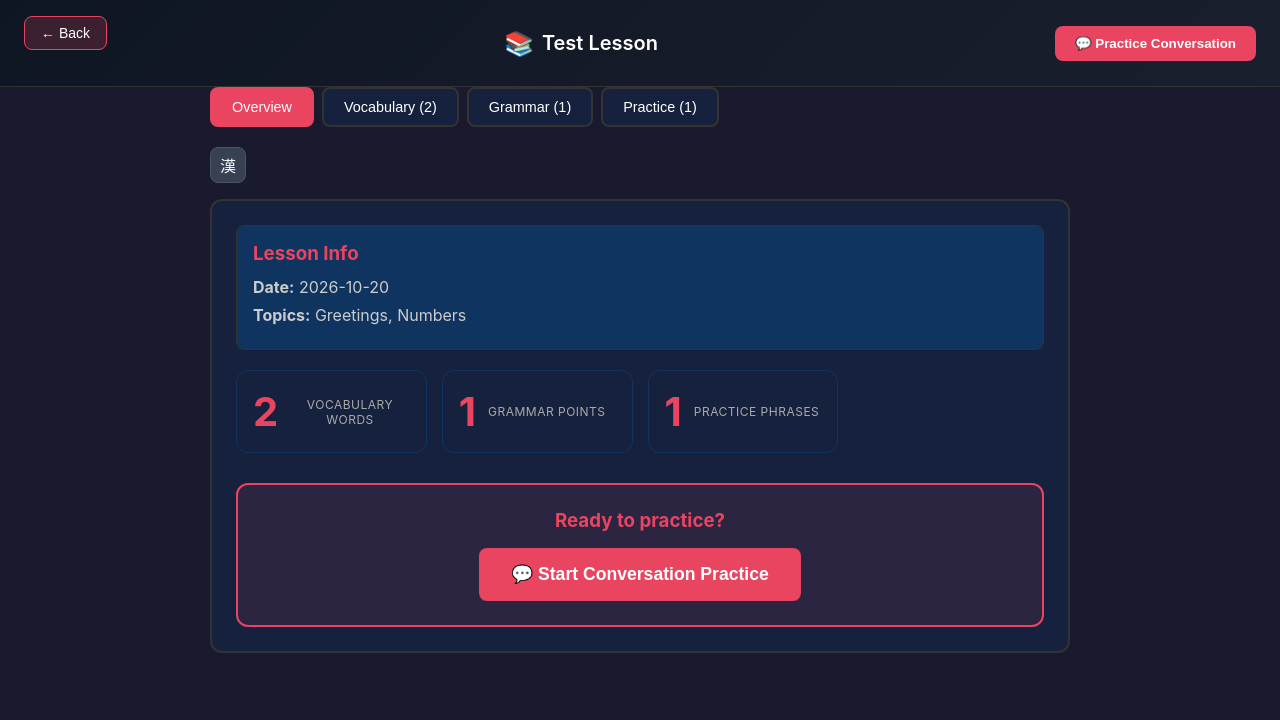
Scenario: LessonDetailView › tabs › switches to the practice tab and renders phrases
Step 1. Click the button "Practice (1)" → (660, 107), box [601, 87, 719, 127]
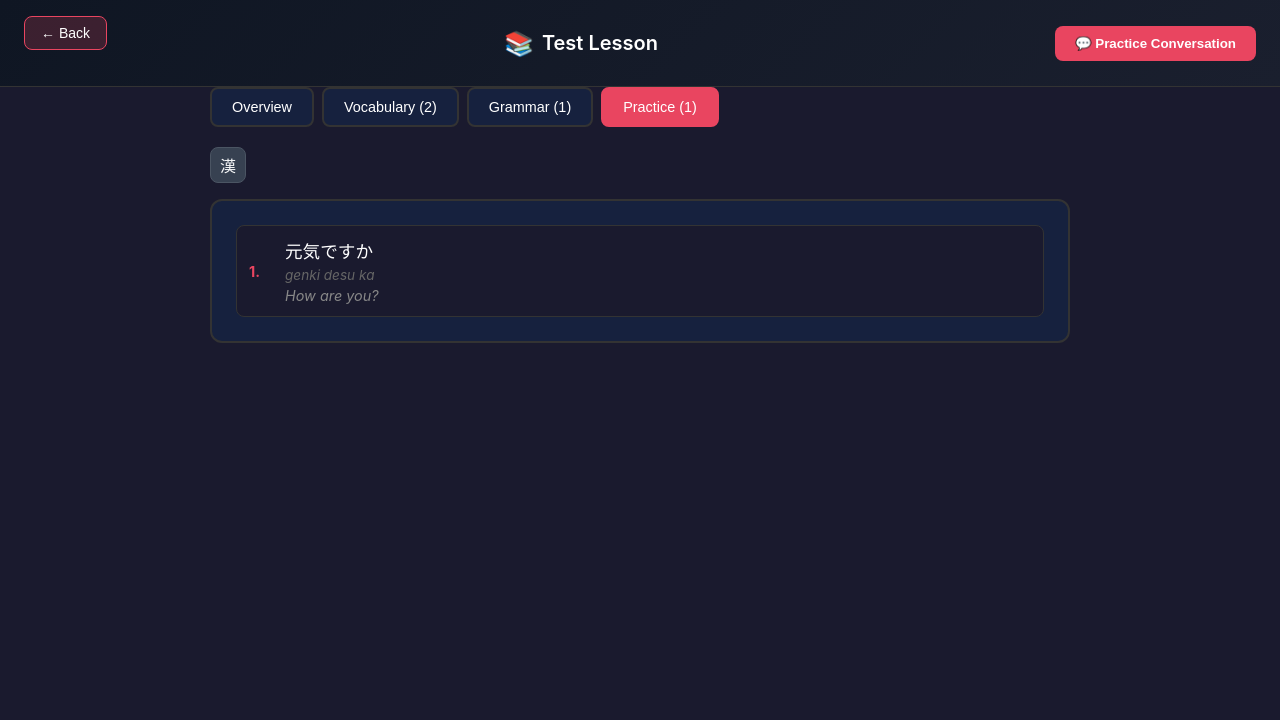
Now the text "genki desu ka" is shown, box [285, 267, 374, 283]
Now the text "How are you?" is shown, box [285, 287, 379, 304]
